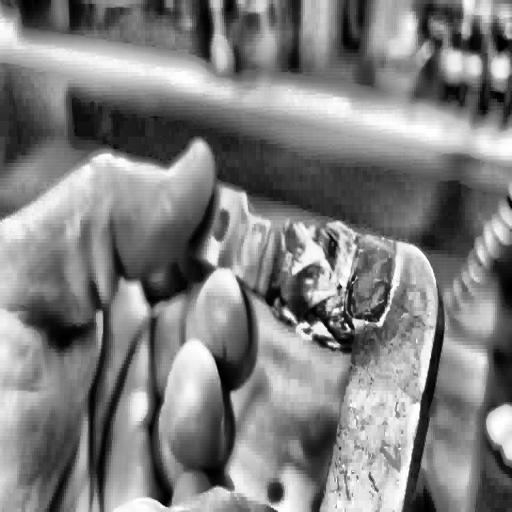battery_module: (167, 128, 448, 512)
